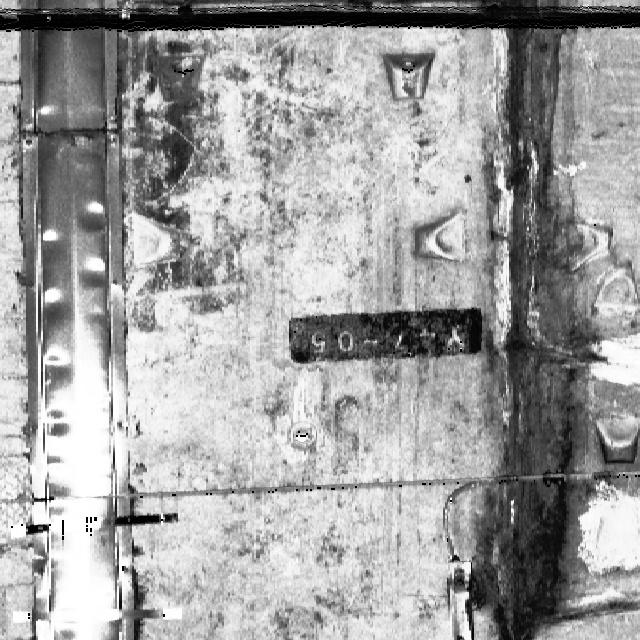leakage: (470, 0, 607, 639)
